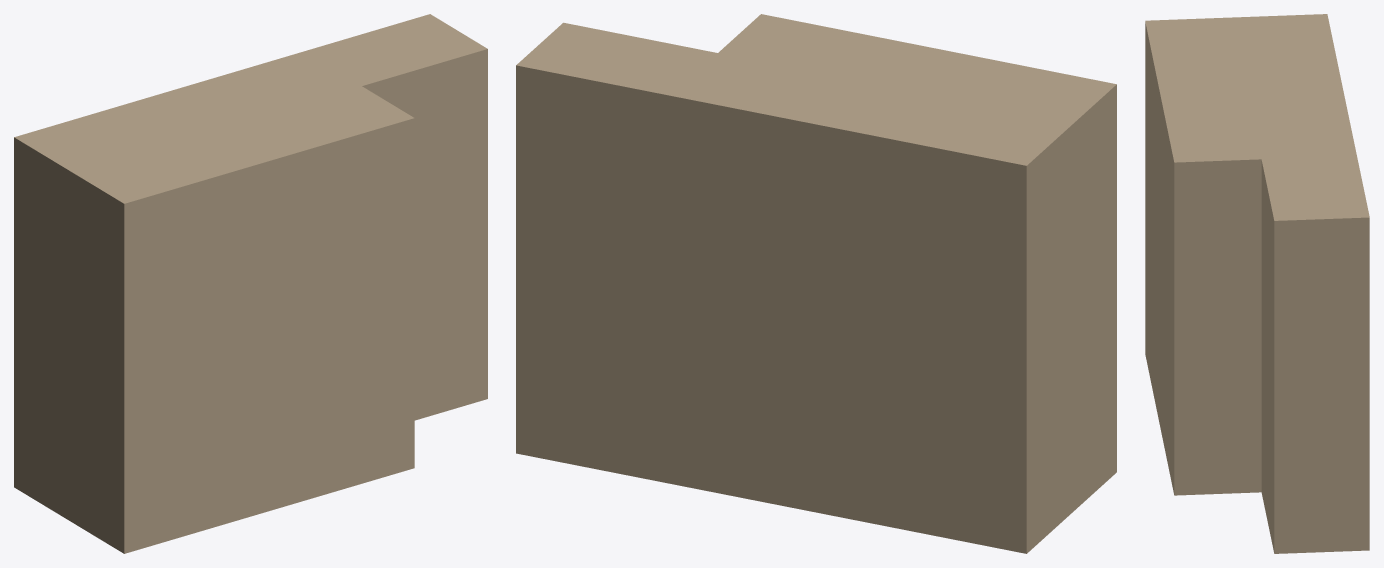
File: bld_101572447.dae
3 views of the same model, side by side, from view 1: azimuth 30°, elevation 25°; view 2: azimuth 150°, elevation 25°; view 3: azimuth 270°, elevation 25° (orthographic). The views are drawn at different scales.
Parts seen in each view (by area): view 1: bld_101572447; view 2: bld_101572447; view 3: bld_101572447.
Part boxes in pixels (x1,y1,x2,y2): bld_101572447: (14, 14, 487, 553); bld_101572447: (516, 14, 1116, 553); bld_101572447: (1145, 14, 1369, 553).
Size of the model in its own units: 10.66 by 4.89 by 8.
